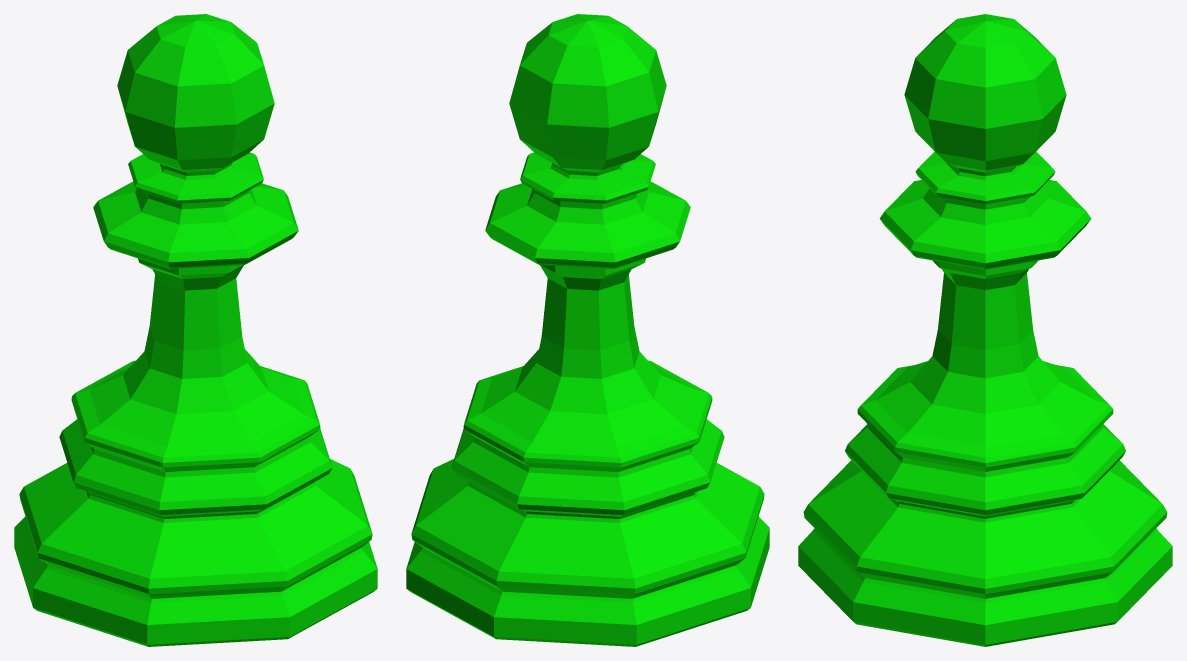
File: PLAYER_GREEN_pawn.glb
The picture shows the model from 3 angles, left to right: view 1: azimuth 30°, elevation 25°; view 2: azimuth 150°, elevation 25°; view 3: azimuth 270°, elevation 25°; orthographic projection.
Parts seen in each view (by area): view 1: Pawn.001_1; view 2: Pawn.001_1; view 3: Pawn.001_1.
Part boxes in pixels (bbox=[...]): Pawn.001_1: bbox=[14, 14, 377, 646]; Pawn.001_1: bbox=[406, 14, 769, 646]; Pawn.001_1: bbox=[798, 14, 1172, 646].
Bounding box in the file's own units: 0.3 × 0.485 × 0.3.
